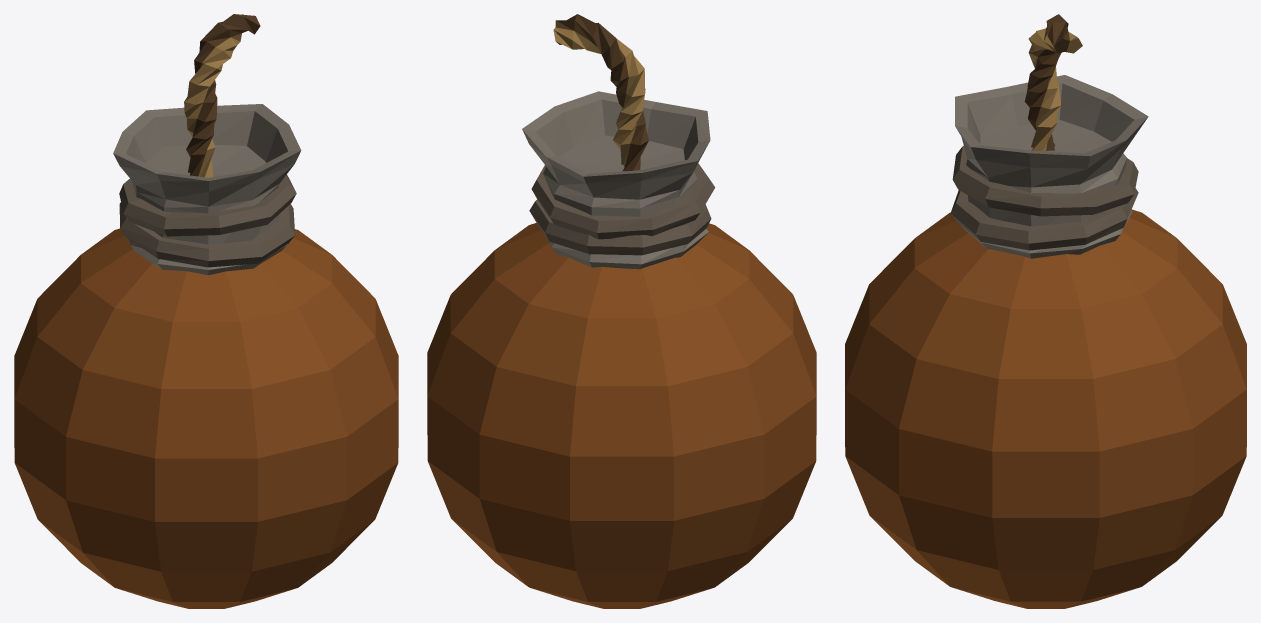
The model's file is smoke-bomb-d0322b.glb.
3 renders of one model, left to right at view 1: azimuth 30°, elevation 25°; view 2: azimuth 150°, elevation 25°; view 3: azimuth 270°, elevation 25°, orthographic. The views are drawn at different scales.
Visible parts, largest first — view 1: smoke-bomb-body; view 2: smoke-bomb-body; view 3: smoke-bomb-body.
Part boxes in pixels (bbox=[...]): smoke-bomb-body: bbox=[14, 14, 398, 608]; smoke-bomb-body: bbox=[427, 14, 816, 608]; smoke-bomb-body: bbox=[845, 14, 1246, 608].
Bounding box in the file's own units: 0.0856 × 0.1357 × 0.0856.
